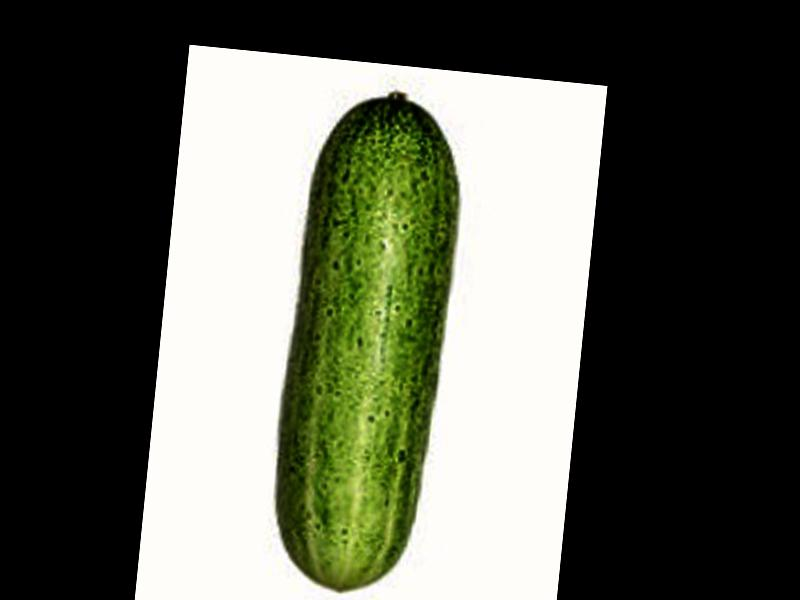Cucumber: (267, 84, 468, 599)
